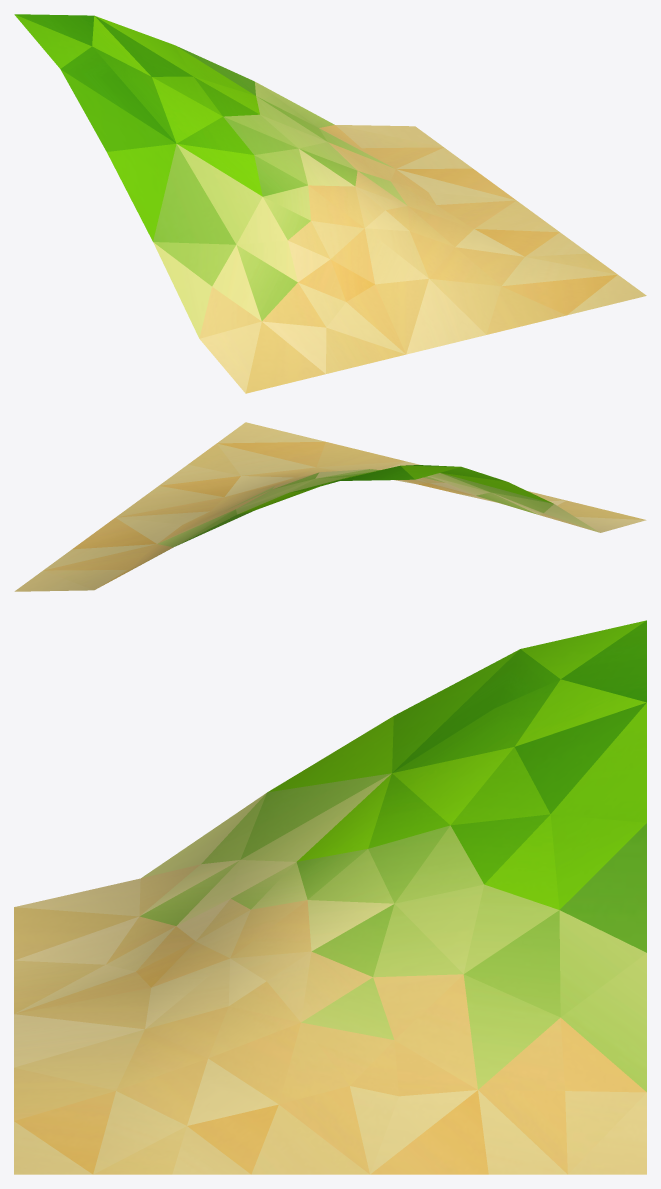
Rendered from GL-Terrain-part-12.fbx.
3 views of the same model, one above another, from view 1: azimuth 30°, elevation 25°; view 2: azimuth 150°, elevation 25°; view 3: azimuth 270°, elevation 25° (orthographic). The views are drawn at different scales.
Parts seen in each view (by area): view 1: GL-Terrain-part-12; view 2: GL-Terrain-part-12; view 3: GL-Terrain-part-12.
Boxes of the visible parts, box(x1,y1,x2,y2) form: GL-Terrain-part-12: box(14, 14, 646, 393); GL-Terrain-part-12: box(14, 422, 646, 591); GL-Terrain-part-12: box(14, 620, 646, 1174).
Size of the model in its own units: 6 by 3 by 6.
